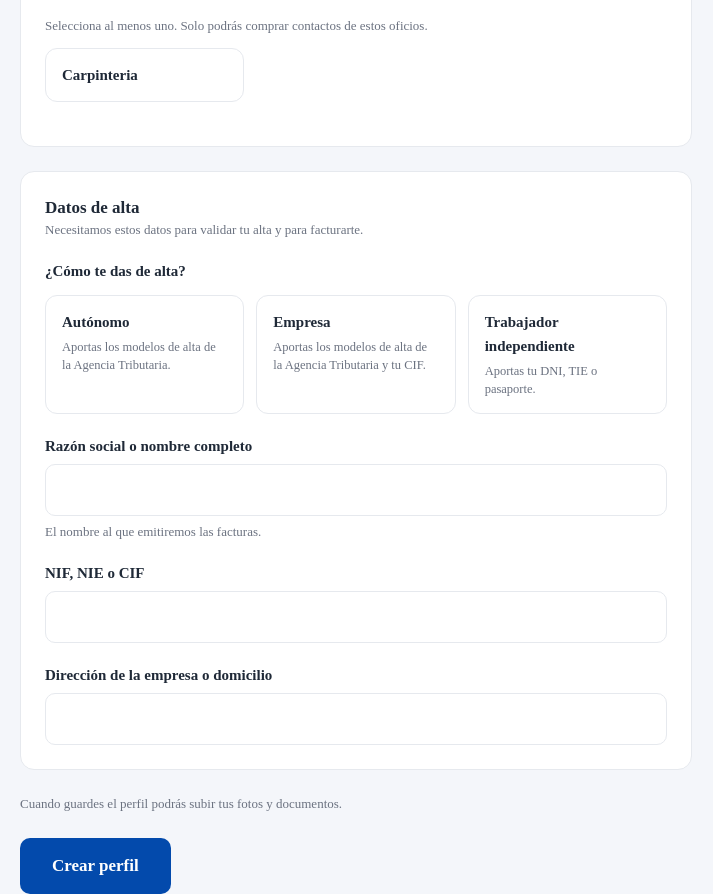
Test case: ProfileForm: errores al guardar › lists what to fix next to the button and moves focus there
The image size is (713, 894).
(page scrolled)
Click the button "Crear perfil" at (95, 866), box [20,838,171,893]
(page scrolled)
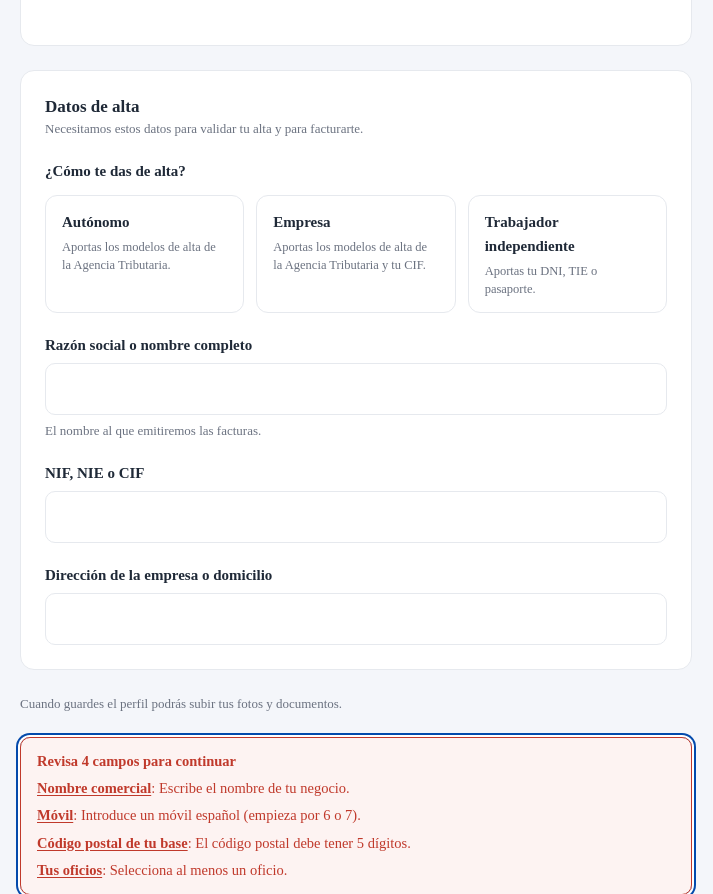
Expected: the button "Nombre comercial" is shown, [37,777,151,800]
Expected: the button "Tus oficios" is shown, [37,859,102,882]
